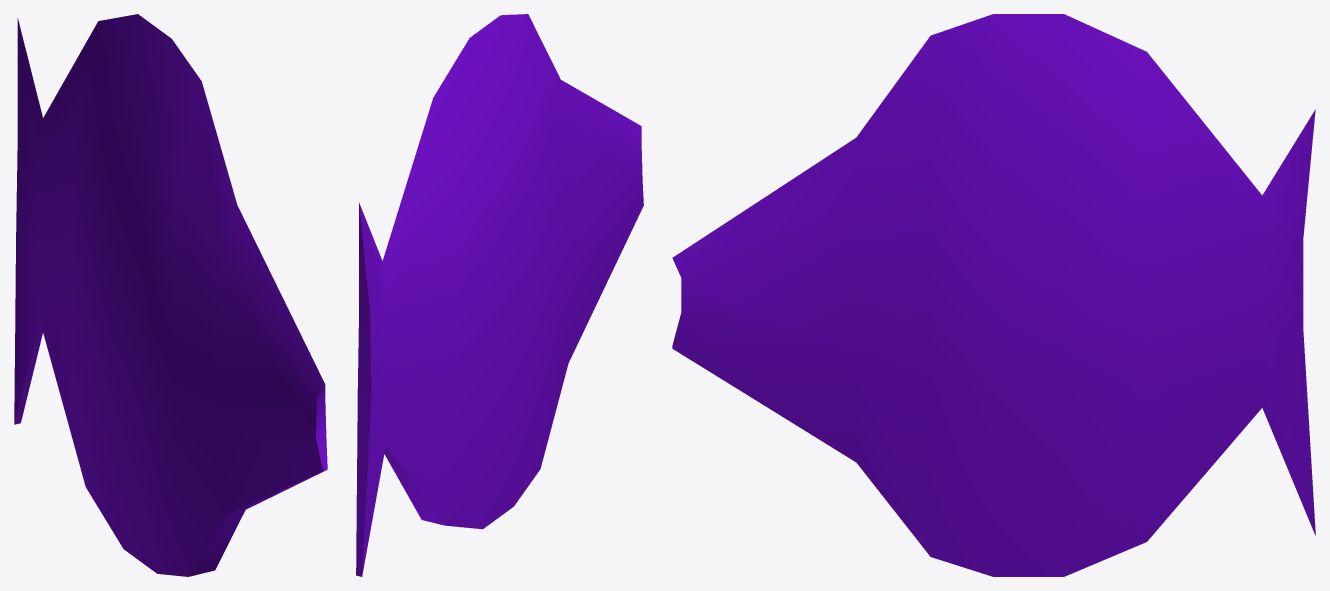
The model's file is lowPolyFish3.fbx.
3 views of the same model, side by side, from view 1: azimuth 30°, elevation 25°; view 2: azimuth 150°, elevation 25°; view 3: azimuth 270°, elevation 25° (orthographic). The views are drawn at different scales.
Visible parts, largest first — view 1: Fish.002; view 2: Fish.002; view 3: Fish.002.
Part boxes in pixels (box(x1,y1,x2,y2)): Fish.002: box(14, 14, 327, 576); Fish.002: box(356, 14, 643, 576); Fish.002: box(672, 14, 1315, 576).
Size of the model in its own units: 48.38 by 378 by 397.
